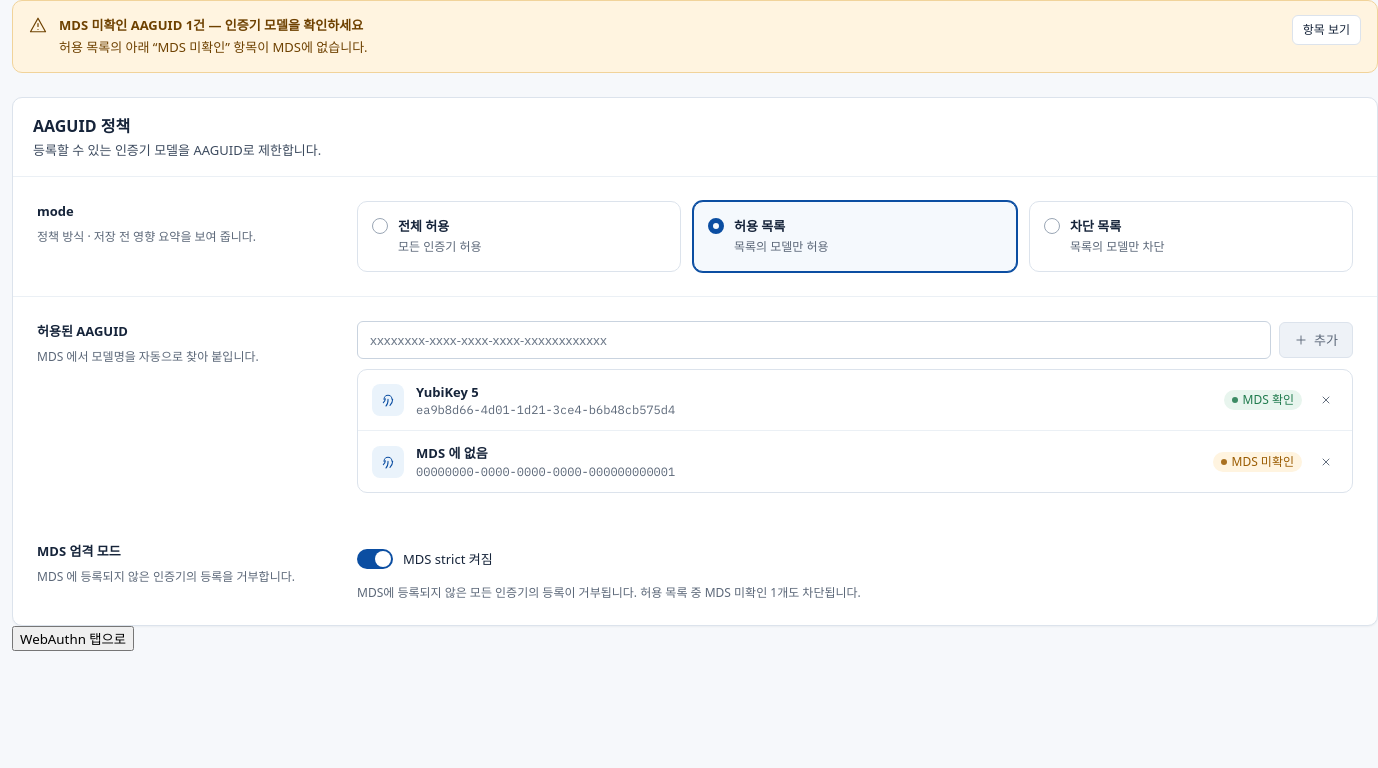
it: AaguidPolicyTab V2 › 전체 허용 선택 시 목록 행이 숨고 SaveBar 요약은 mode
Click the radio button labelled "전체 허용 모든 인증기 허용".
click(424, 226)  # box [357, 201, 681, 272]
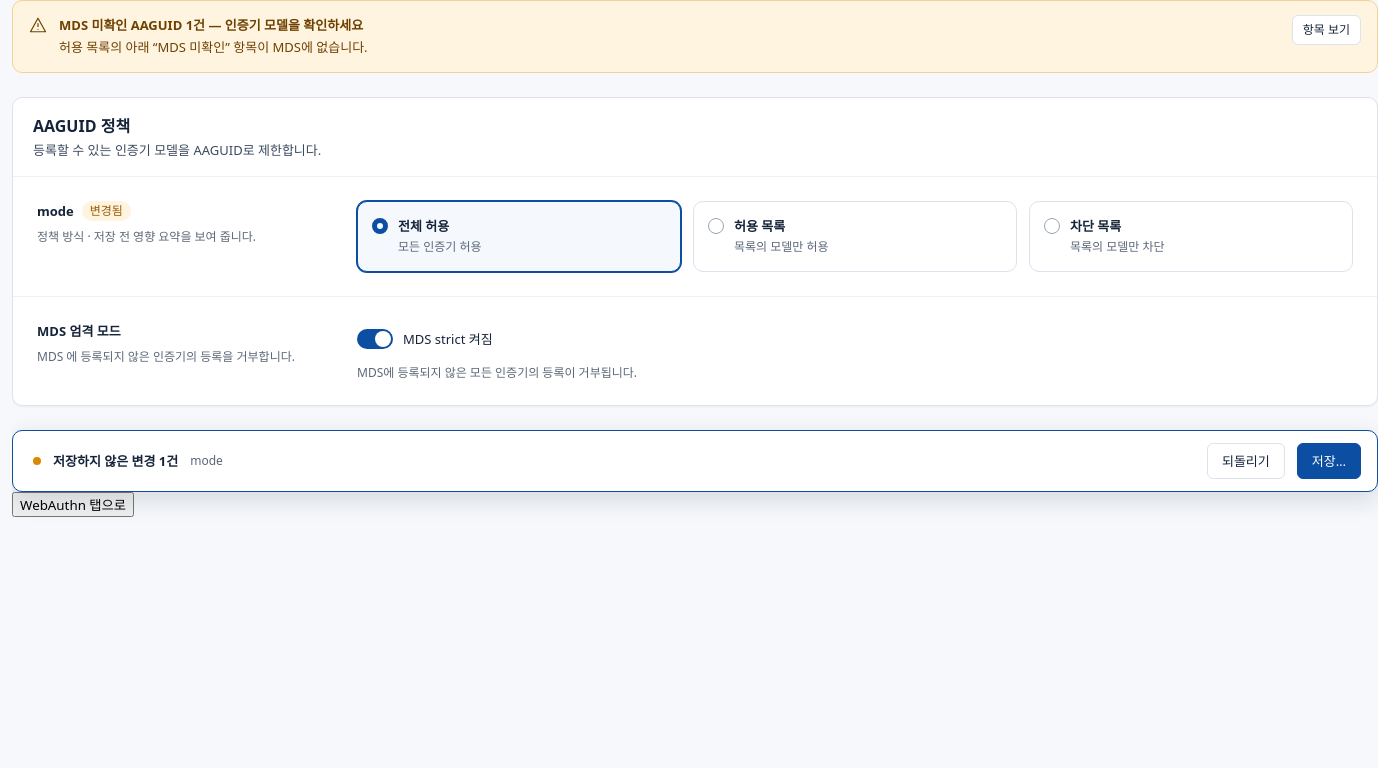
Expected: the element named "저장되지 않은 변경" shows "저장하지 않은 변경 1건", [12, 430, 1377, 492]
Expected: the element named "저장되지 않은 변경" shows "mode", [190, 452, 223, 469]
